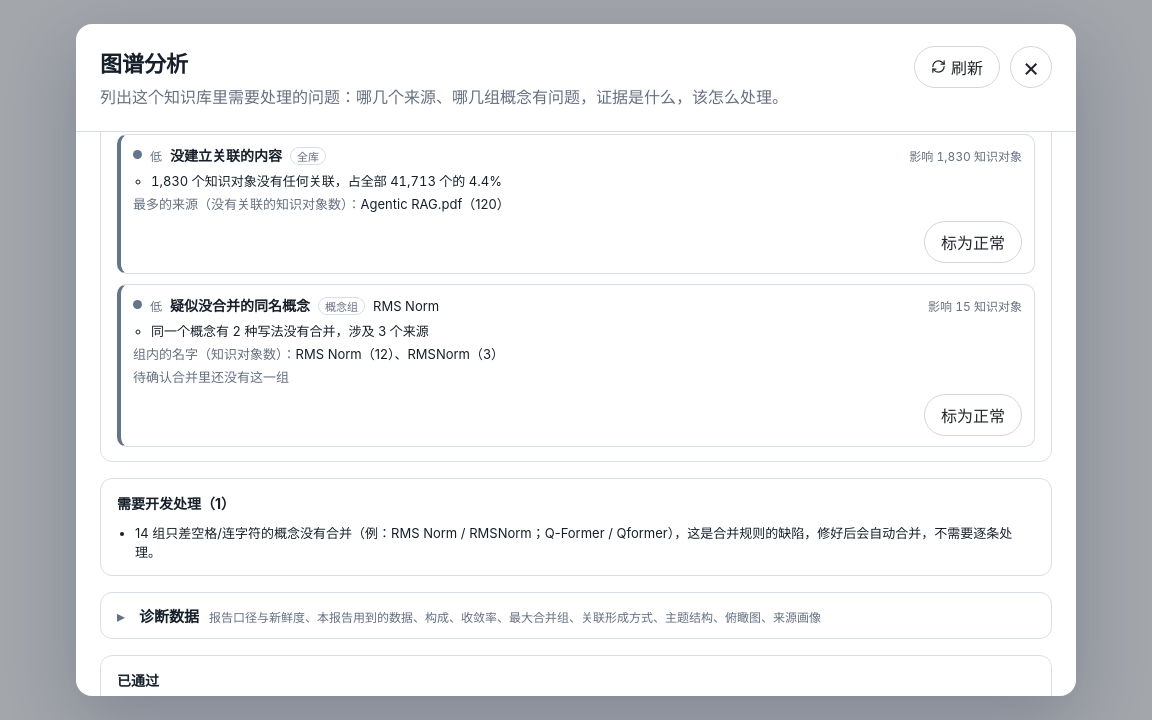
标为正常：在飞禁用；成功后从待处理移走、区里说清去了哪里
(page scrolled)
Click the button "标为正常" below "影响 15 知识对象".
click(973, 414)  # box [924, 394, 1022, 436]
(page scrolled)
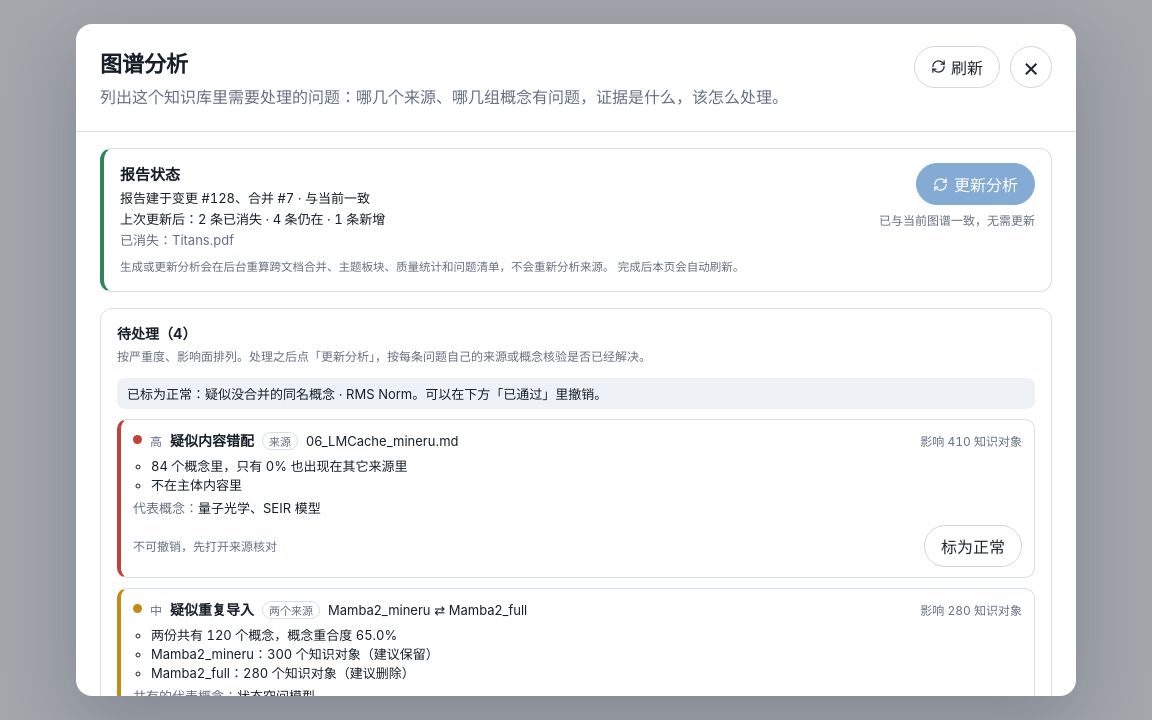
Check: the text "已标为正常：疑似没合并的同名概念 · RMS Norm。可以在下方「已通过」里撤销。" is shown, box [117, 378, 1035, 408]
